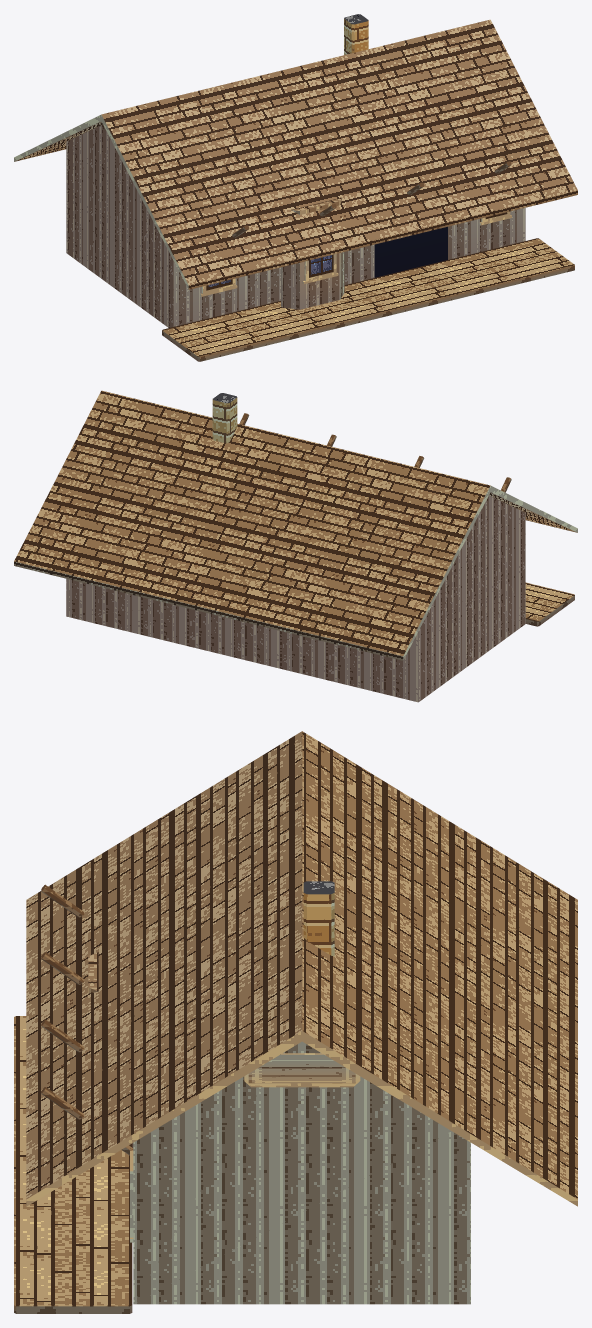
The model's file is wrail.station__entry.glb.
3 views of the same model, one above another, from view 1: azimuth 30°, elevation 25°; view 2: azimuth 150°, elevation 25°; view 3: azimuth 270°, elevation 25° (orthographic). The views are drawn at different scales.
Visible parts, largest first — view 1: kit_roof, kit_body, kit_deck, kit_card_panes, kit_bay, kit_chimney, kit_windows; view 2: kit_roof, kit_body, kit_deck, kit_chimney; view 3: kit_roof, kit_body, kit_deck, kit_card_panes, kit_chimney, kit_braces, kit_trim.
Boxes of the visible parts, x1=… form: kit_roof: x1=14, y1=19, x2=577, y2=289; kit_body: x1=66, y1=125, x2=525, y2=327; kit_deck: x1=162, y1=238, x2=574, y2=361; kit_card_panes: x1=206, y1=212, x2=507, y2=290; kit_bay: x1=281, y1=197, x2=344, y2=309; kit_chimney: x1=344, y1=14, x2=368, y2=54; kit_windows: x1=200, y1=211, x2=511, y2=296; kit_roof: x1=14, y1=390, x2=577, y2=660; kit_body: x1=66, y1=496, x2=525, y2=702; kit_deck: x1=525, y1=582, x2=574, y2=626; kit_chimney: x1=212, y1=393, x2=237, y2=443; kit_roof: x1=26, y1=731, x2=577, y2=1206; kit_body: x1=133, y1=1041, x2=470, y2=1304; kit_deck: x1=14, y1=1016, x2=132, y2=1313; kit_card_panes: x1=248, y1=1059, x2=355, y2=1083; kit_chimney: x1=303, y1=881, x2=334, y2=956; kit_braces: x1=41, y1=884, x2=133, y2=1155; kit_trim: x1=244, y1=1053, x2=360, y2=1087.
Bounding box in the file's own units: 12.6 × 6.5 × 10.02.
Materials: 10 (10 with a texture image).
